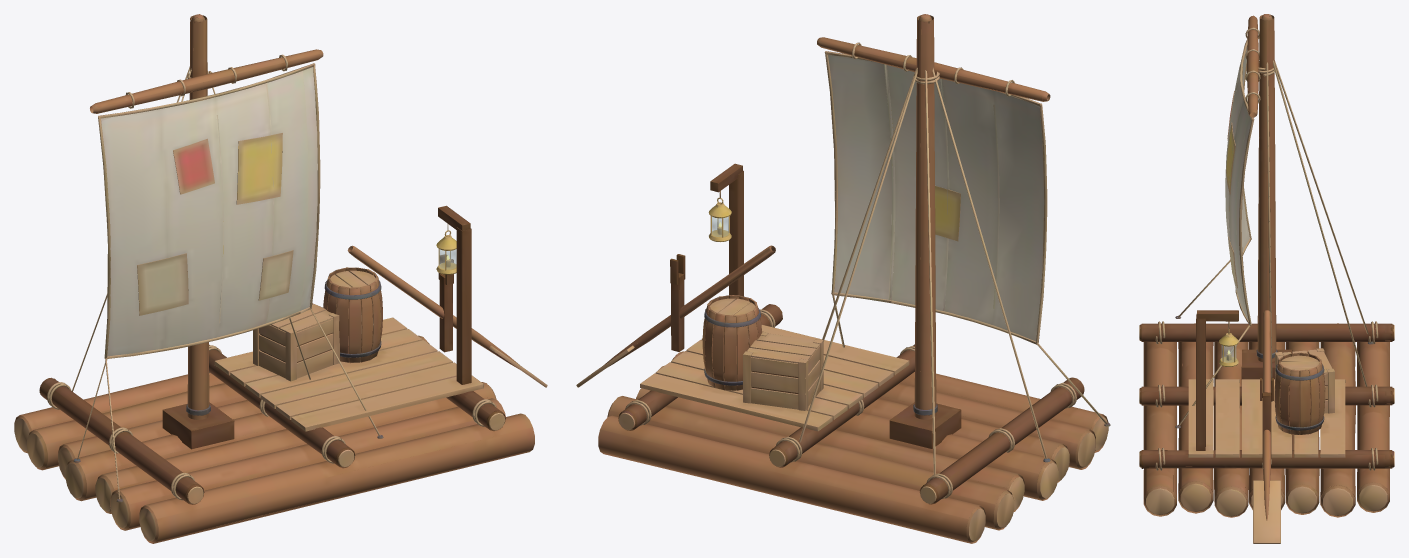
Rendered from pirate-raft.glb.
3 renders of one model, left to right at view 1: azimuth 30°, elevation 25°; view 2: azimuth 150°, elevation 25°; view 3: azimuth 270°, elevation 25°, orthographic. The views are drawn at different scales.
Parts seen in each view (by area): view 1: pirate-raft_body; view 2: pirate-raft_body; view 3: pirate-raft_body.
Boxes of the visible parts, x1=… form: pirate-raft_body: x1=14, y1=14, x2=547, y2=543; pirate-raft_body: x1=576, y1=14, x2=1110, y2=543; pirate-raft_body: x1=1139, y1=14, x2=1394, y2=543.
Bounding box in the file's own units: 3.72 × 3.41 × 2.02.
4 materials, 1 textured.
